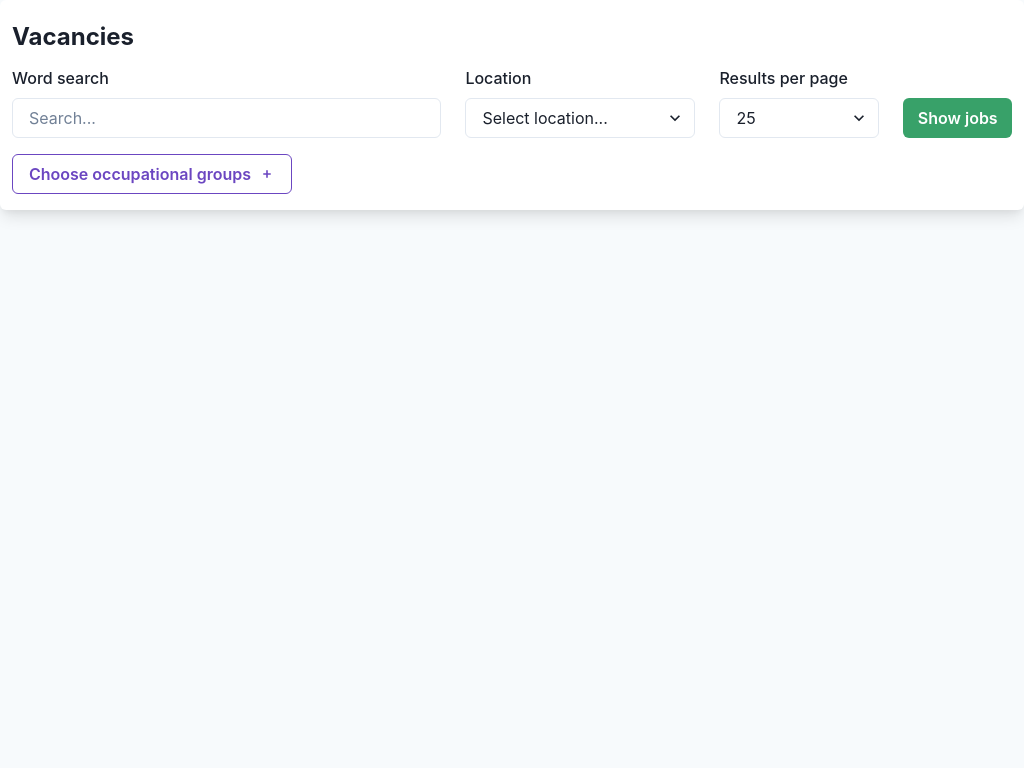
VacanciesPage tests › Should fetch jobs and show some results
The image size is (1024, 768).
Type "cook" into the field labelled "Word search" at coordinates (227, 118), box left=12, top=98, right=441, bottom=138
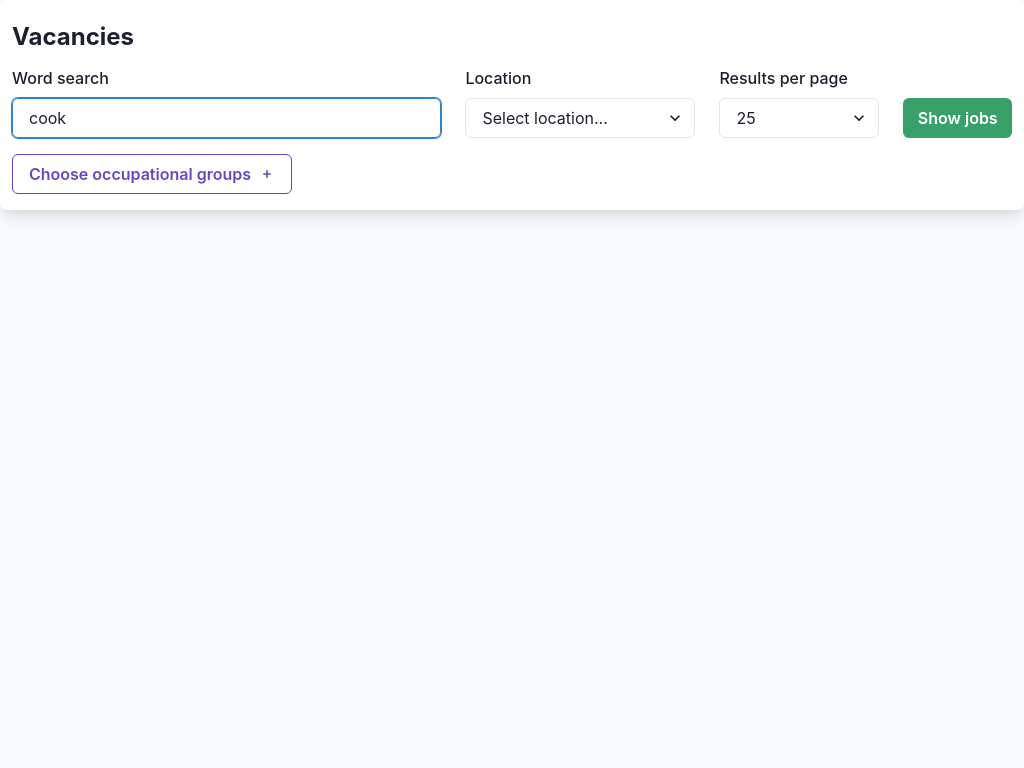
Click the button "Show jobs" at coordinates (958, 118), box left=903, top=98, right=1012, bottom=138
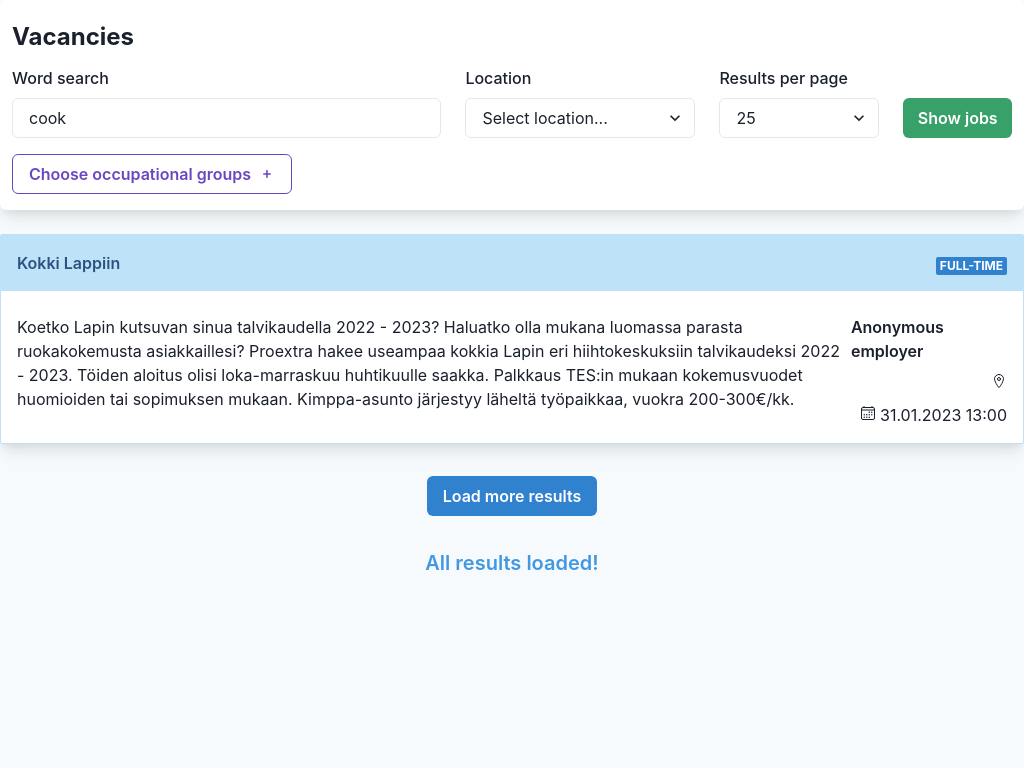
Expected: the text "Kokki Lappiin" is shown, left=17, top=251, right=120, bottom=275
